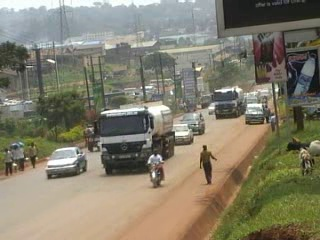Car: (41, 145, 90, 179), (177, 109, 207, 137), (171, 119, 195, 148), (205, 100, 218, 117)
Motorcycle: (144, 148, 166, 188)
